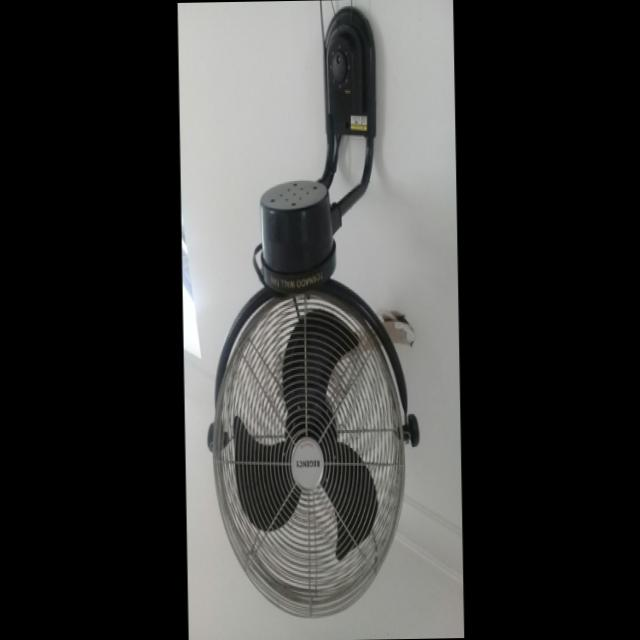fan: (196, 2, 422, 628)
